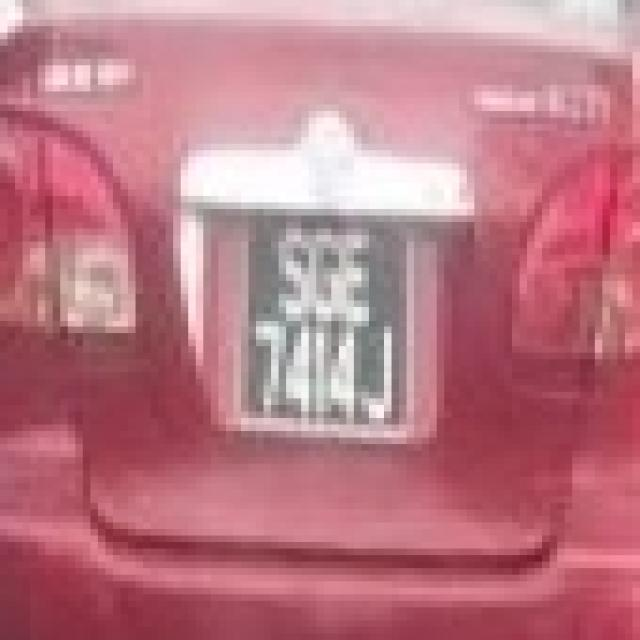1: (307, 328, 331, 424)
4: (332, 328, 366, 423), (286, 328, 314, 421)
7: (254, 321, 282, 415)
E: (343, 228, 374, 327)
G: (308, 226, 342, 328)
J: (363, 327, 402, 420)
S: (274, 224, 308, 325)
